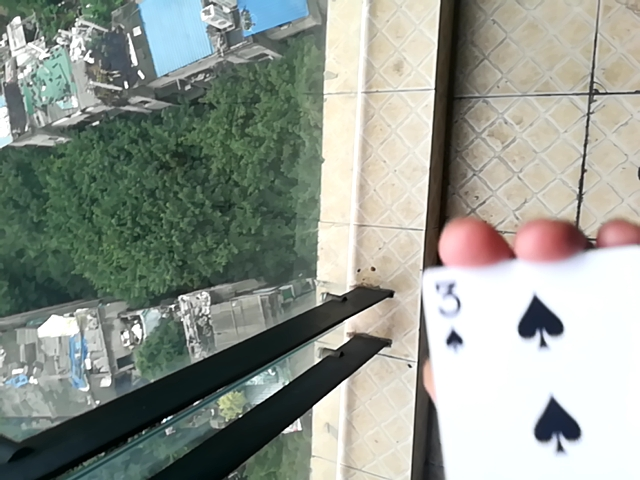ht 3: (411, 254, 639, 480)
